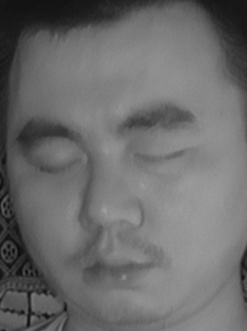blink: (33, 145, 83, 184), (133, 138, 185, 175)
mouth: (79, 238, 161, 293)
